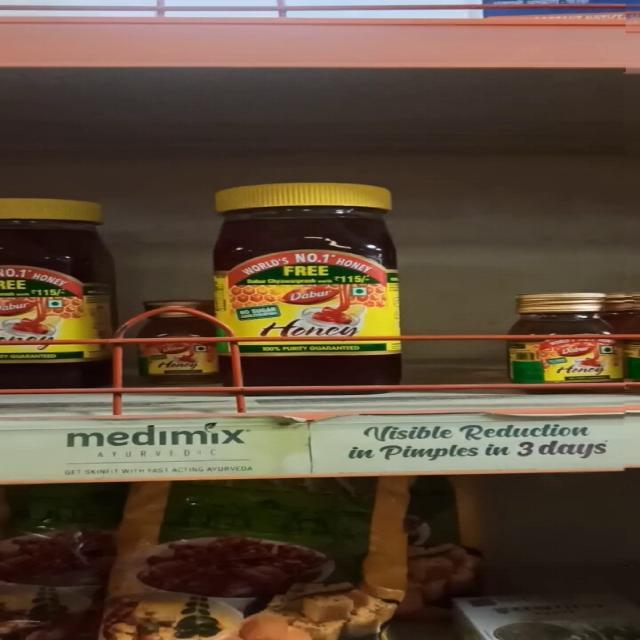Dabur Honey: (204, 176, 415, 396), (504, 286, 632, 396)
